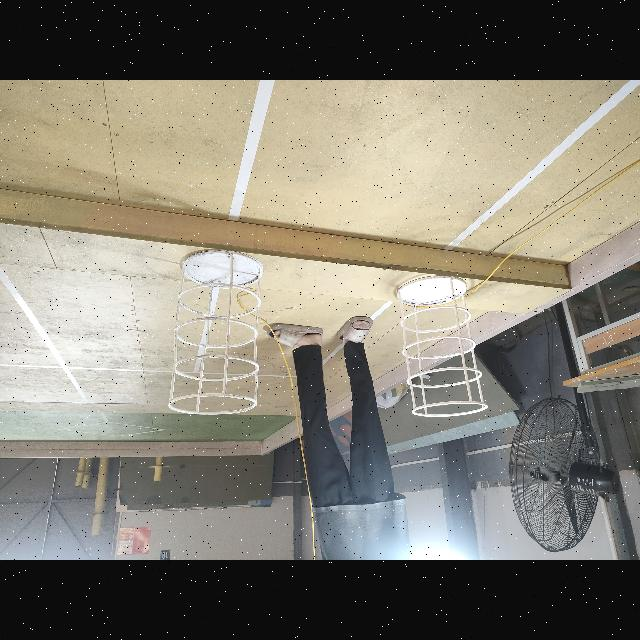S: (168, 250, 268, 426), (395, 267, 489, 425)
